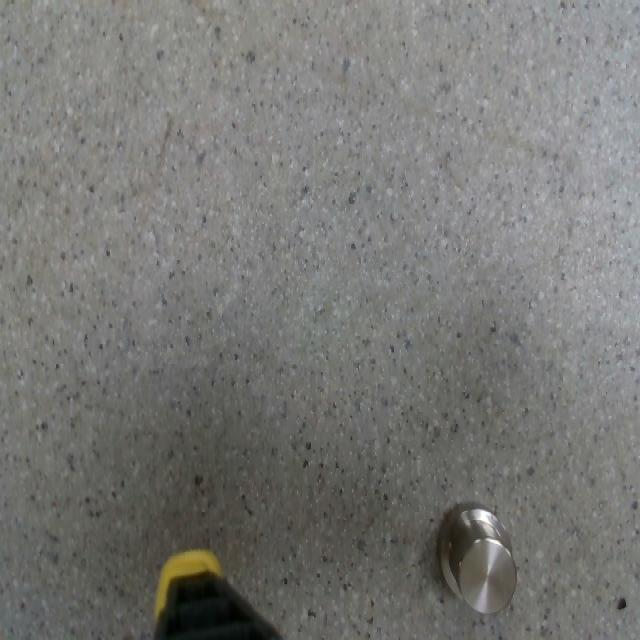sensor: (437, 501, 519, 614)
